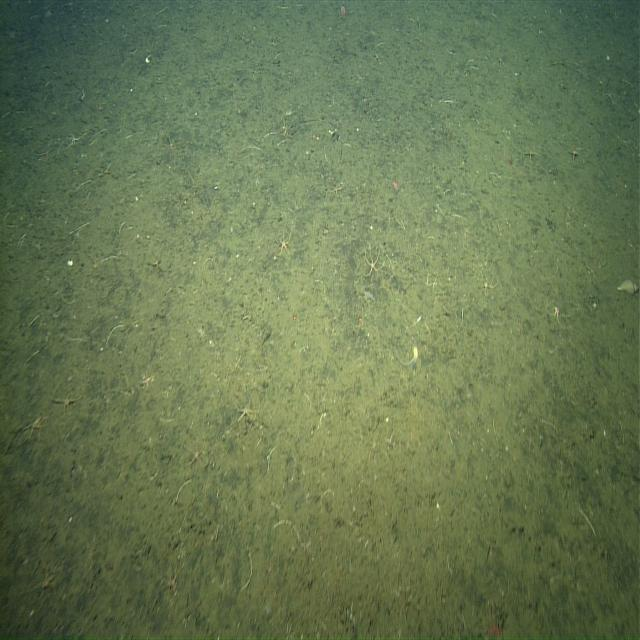Brittle Star: (362, 246, 386, 284), (234, 392, 258, 427), (477, 270, 499, 302), (274, 229, 293, 259), (138, 366, 157, 392)
Not Brittle Star: (614, 274, 639, 300)
